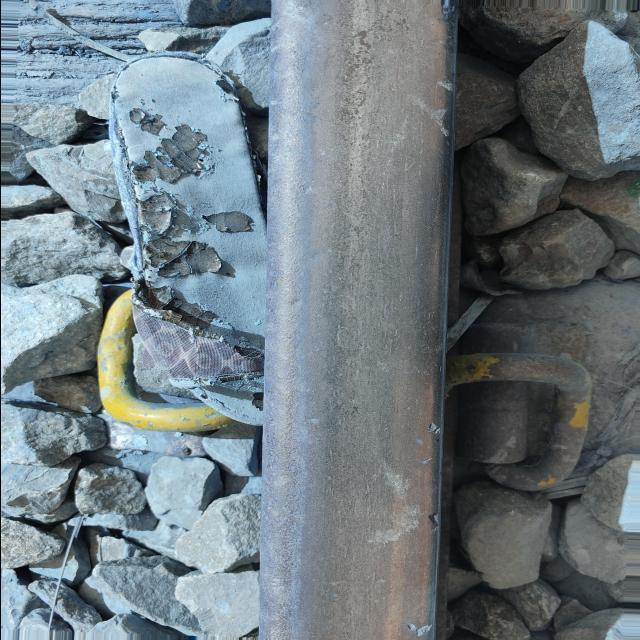head_checks_low: (436, 79, 454, 138), (407, 620, 435, 638), (428, 418, 442, 441), (427, 509, 441, 530), (442, 2, 457, 20)
